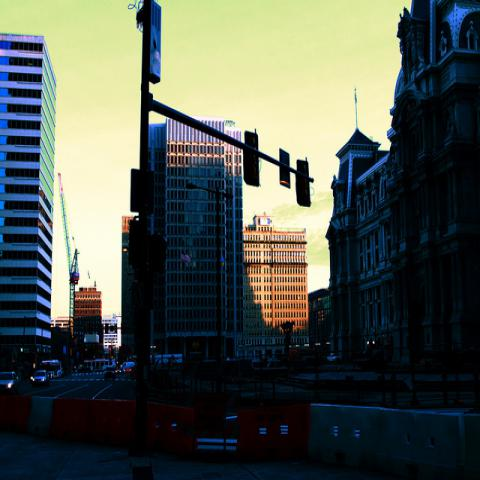bus: (84, 358, 116, 372), (41, 360, 62, 377), (150, 354, 182, 364)
car: (0, 371, 20, 394), (33, 371, 50, 385), (103, 365, 116, 382)
